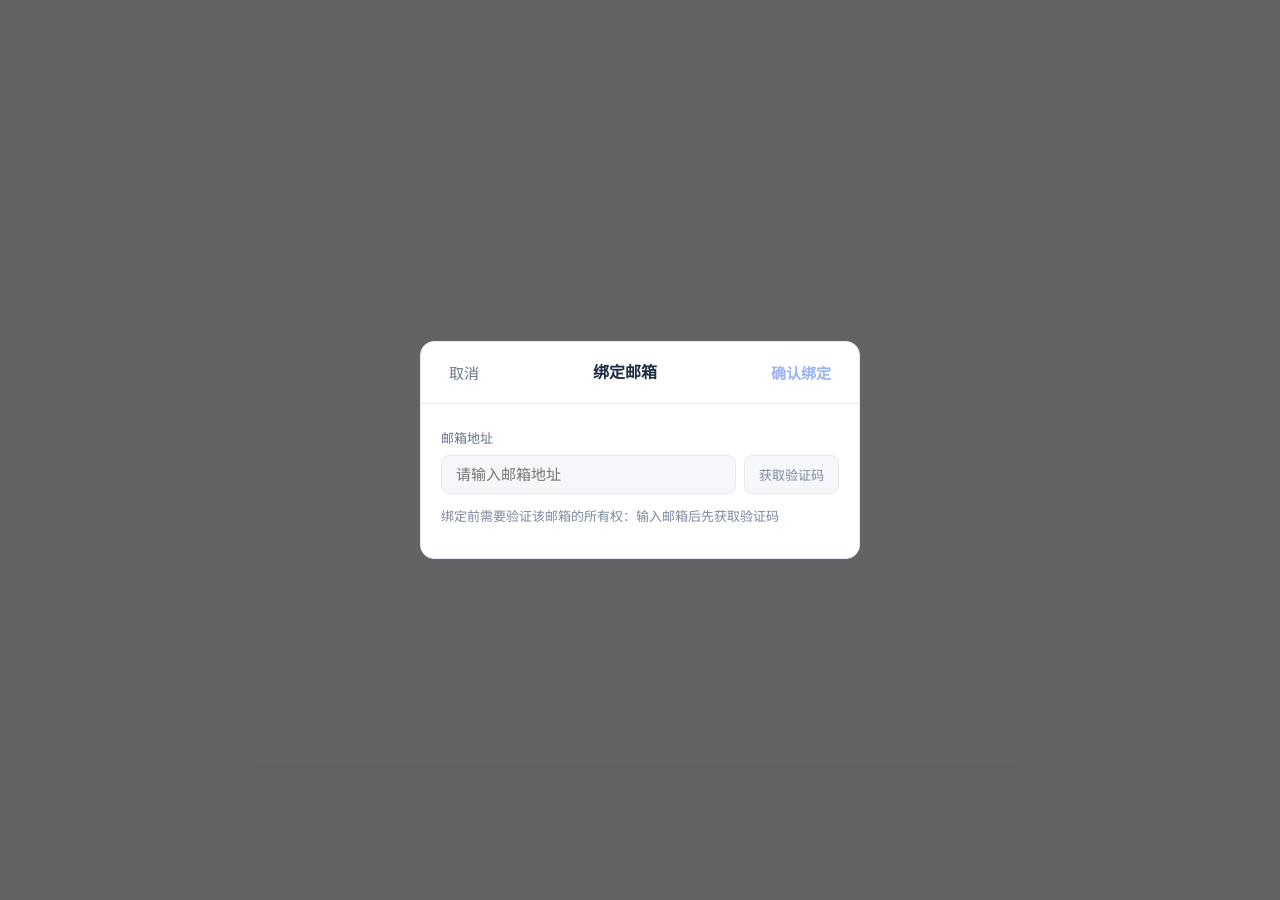
BindEmailModal verified-binding flow › send-code 429 shows retry guidance
Step 1. Type " throttled@example.test " into the field with placeholder "请输入邮箱地址" → (588, 474), box [441,454,736,494]
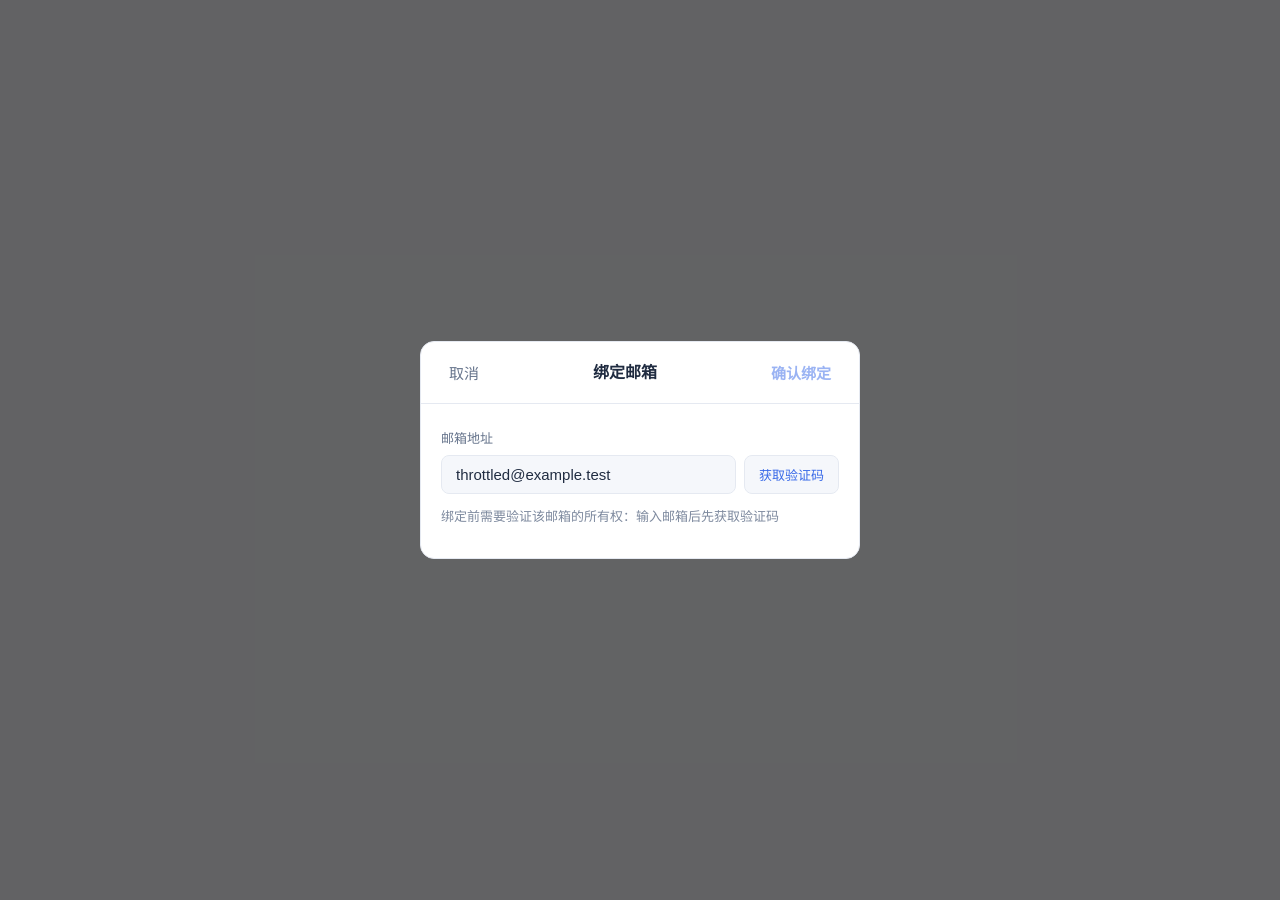
Step 2. Click the button with test id "send-code" → (792, 474), box [744,454,839,494]
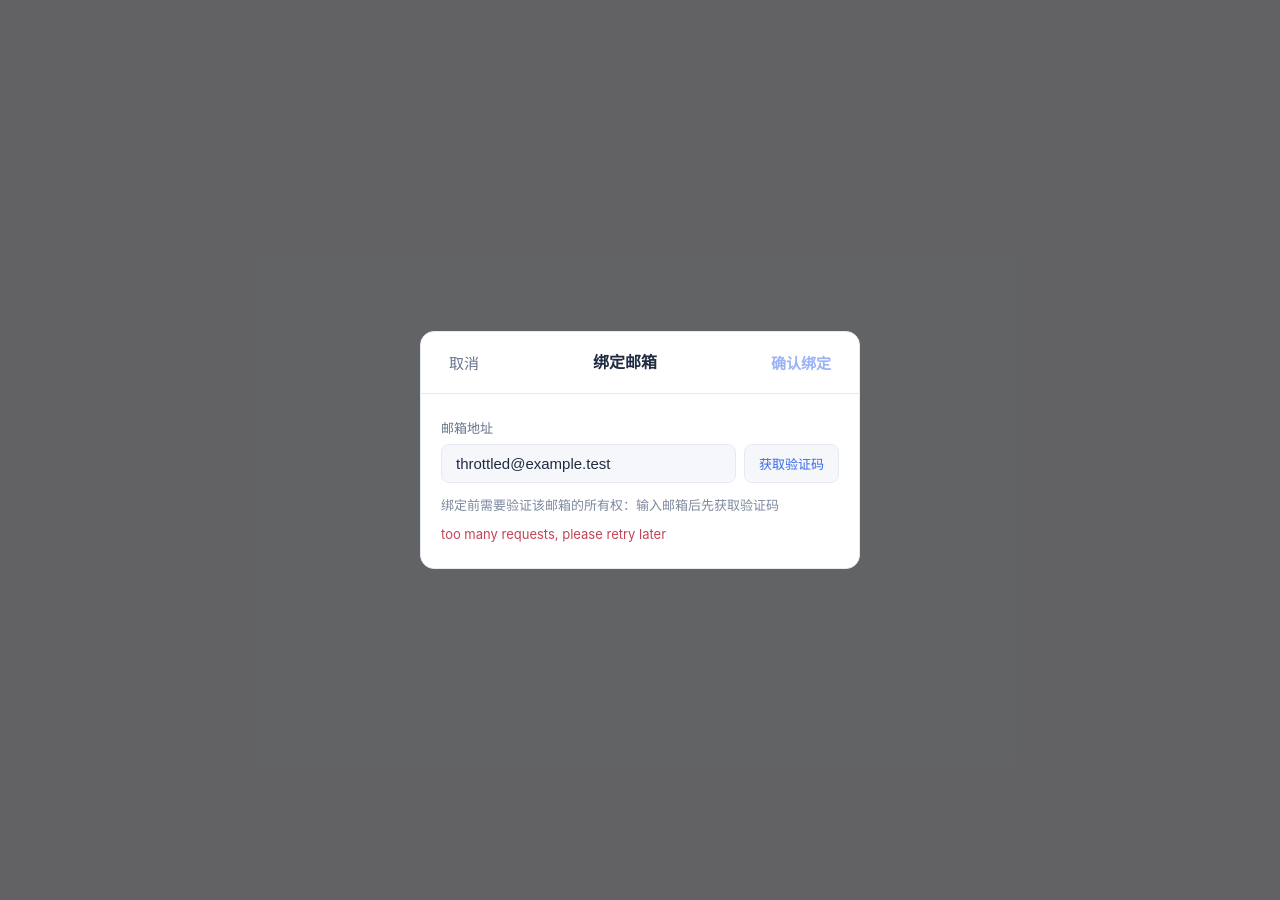
Result: the text "too many requests" is shown at [441,526,666,542]
